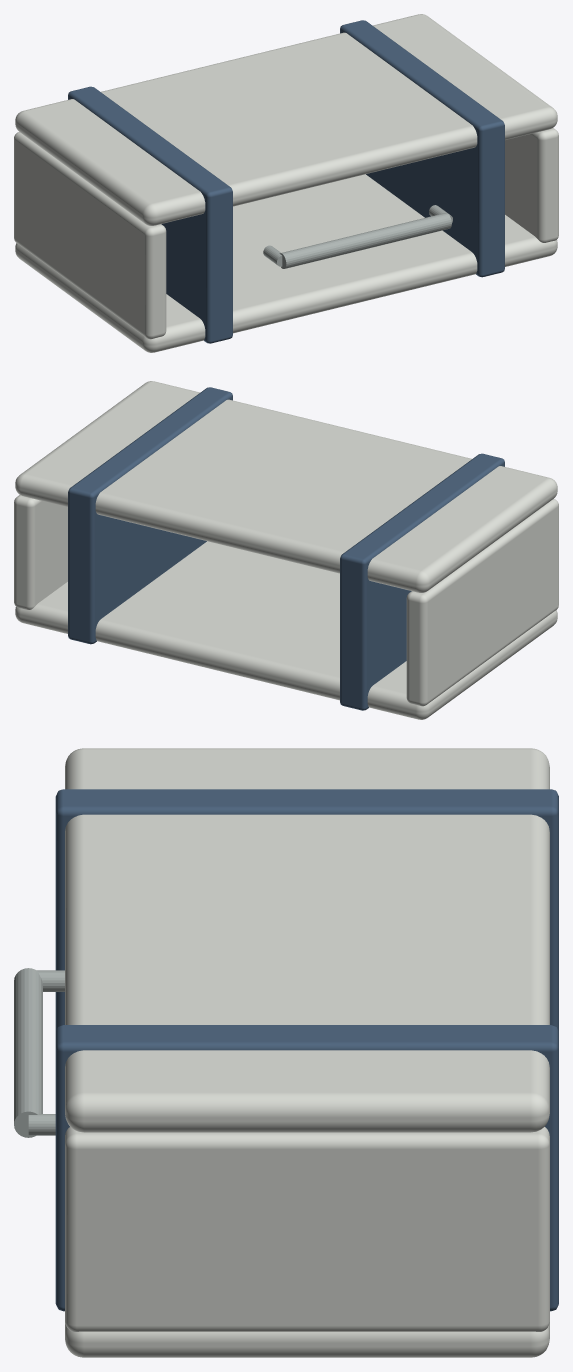
The model's file is spacecraft-parachute-packing-hall-spacecraft-parachute-0965d0fe__32093.glb.
3 renders of one model, top to bottom at view 1: azimuth 30°, elevation 25°; view 2: azimuth 150°, elevation 25°; view 3: azimuth 270°, elevation 25°, orthographic. The views are drawn at different scales.
Visible parts, largest first — view 1: spacecraft-parachute-packing-hall-packing-sleeve; view 2: spacecraft-parachute-packing-hall-packing-sleeve; view 3: spacecraft-parachute-packing-hall-packing-sleeve.
Part boxes in pixels (x1,y1,x2,y2): spacecraft-parachute-packing-hall-packing-sleeve: (14, 14, 558, 352); spacecraft-parachute-packing-hall-packing-sleeve: (14, 381, 558, 719); spacecraft-parachute-packing-hall-packing-sleeve: (14, 748, 558, 1357).
Bounding box in the file's own units: 0.7 × 0.245 × 0.4495.
